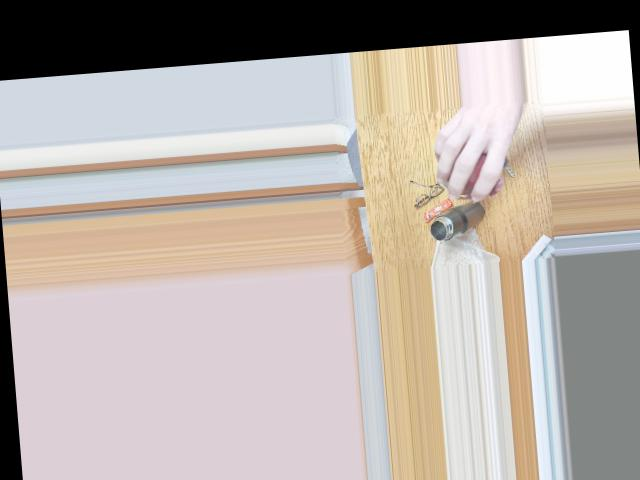onion: (437, 140, 504, 191)
